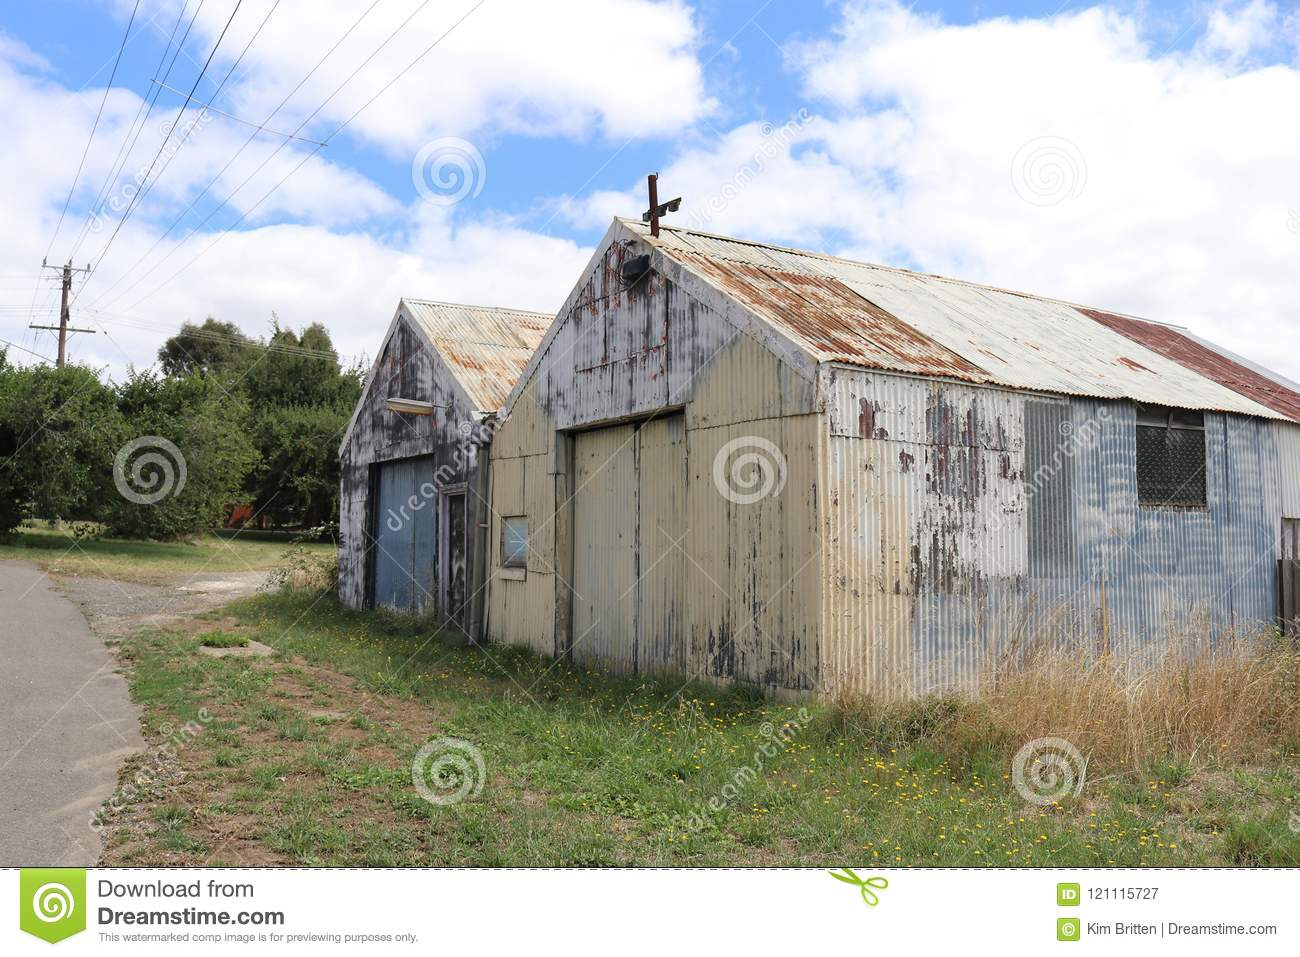Tin-shade House: (341, 196, 1264, 726)
